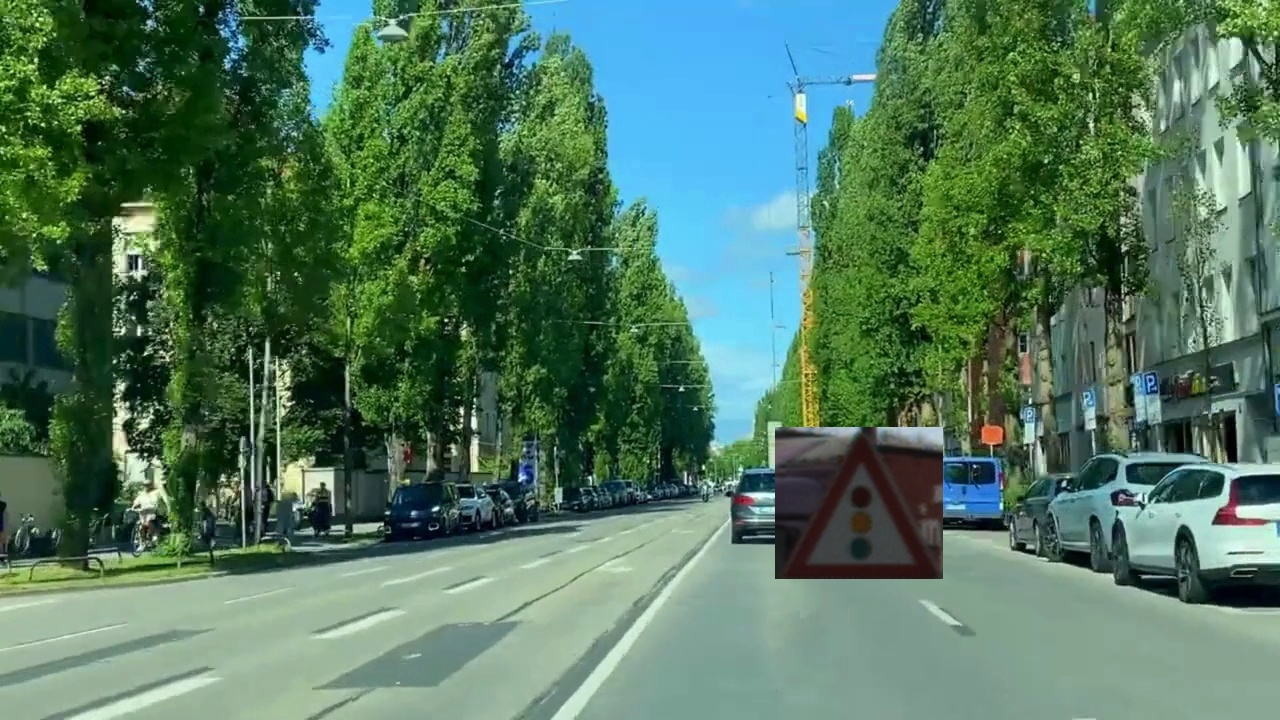Signals: (775, 427, 943, 579)
